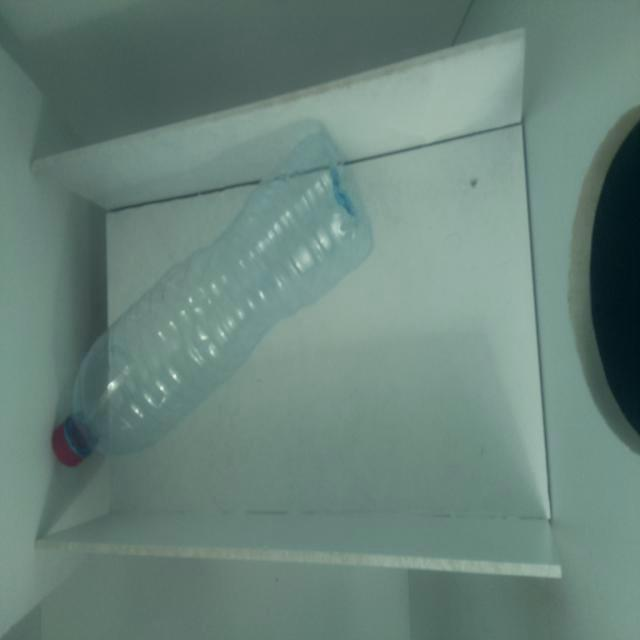bottle: (52, 134, 375, 467)
